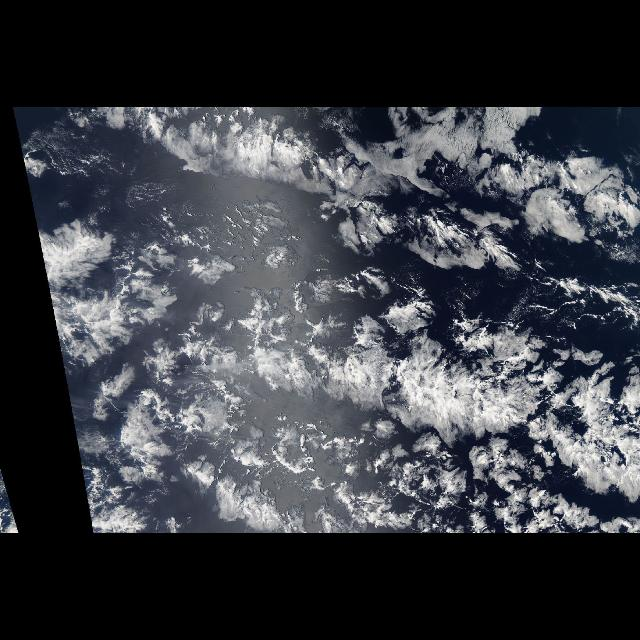Fish: (182, 312, 640, 482)
Sugar: (130, 177, 288, 247)
